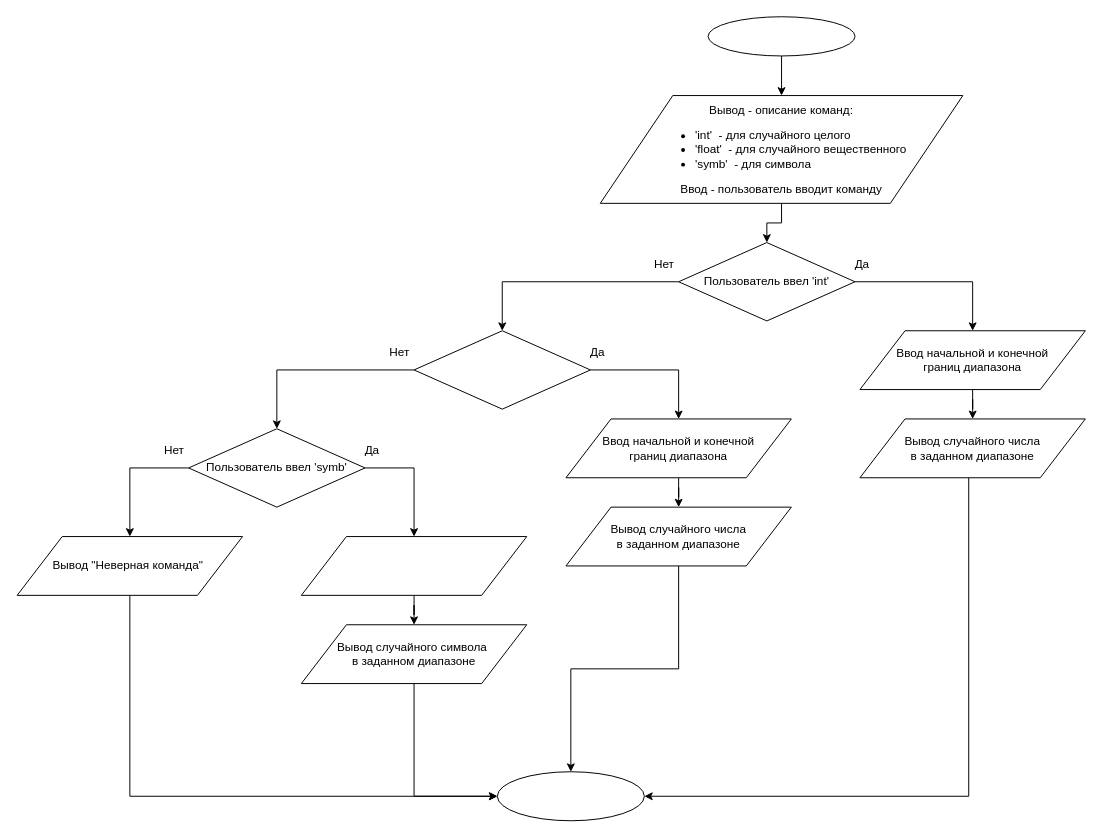
The diagram is 1103 pixels wide and 839 high, and some of its shapes have lost their labels. Here are the shapes that lost their labels. From the top down, the centre of each, then its label:
At point (781, 36): "начало".
At point (501, 369): "Пользователь ввел 'float'".
At point (413, 565): "Ввод начального и конечного символов".
At point (570, 796): "конец".
